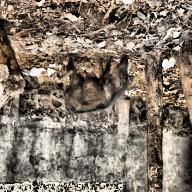boar: (62, 52, 129, 116)
